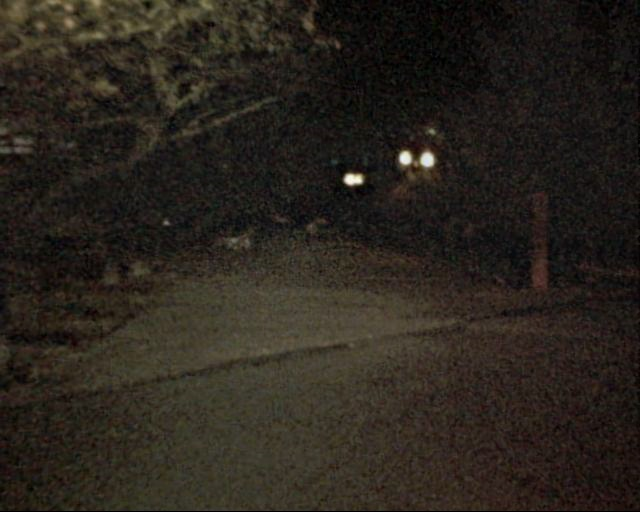person: (304, 214, 323, 261)
